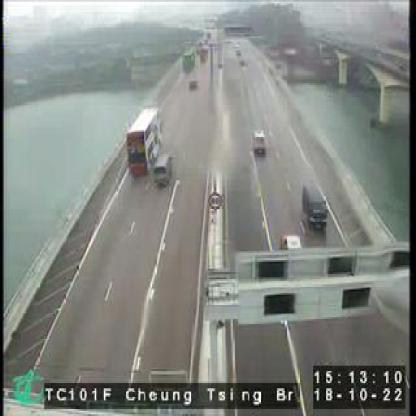Bus: (126, 106, 163, 178)
Car: (303, 180, 328, 231), (154, 154, 174, 188), (253, 128, 268, 154)
